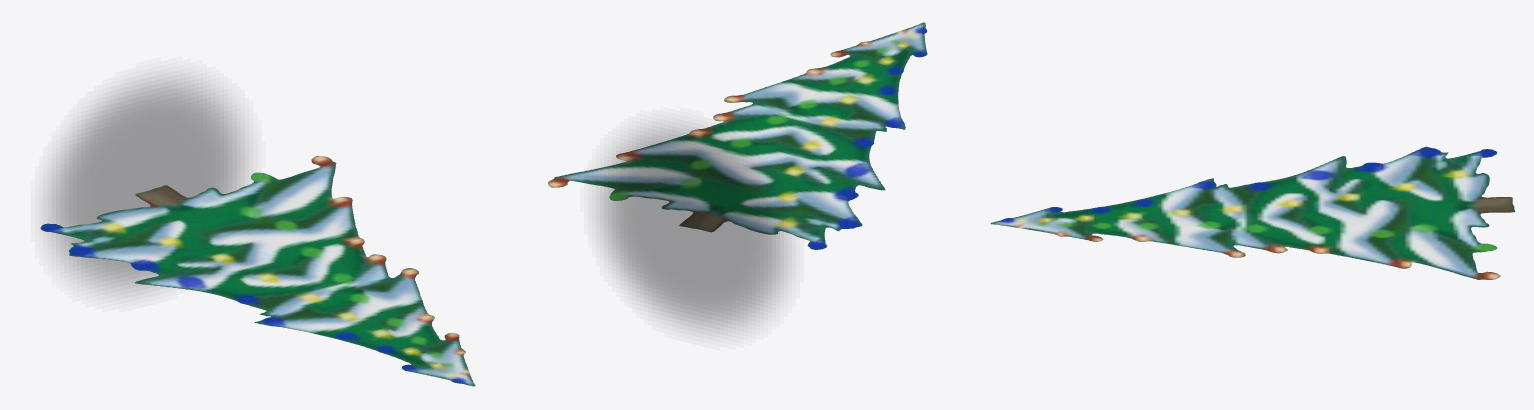
The model's file is prop_snow_tree_small_ul.glb.
3 views of the same model, side by side, from view 1: azimuth 30°, elevation 25°; view 2: azimuth 150°, elevation 25°; view 3: azimuth 270°, elevation 25° (orthographic). The views are drawn at different scales.
Parts seen in each view (by area): view 1: p292_6__billboard, shadow_snow_tree_small_nobox_ul; view 2: p292_6__billboard, shadow_snow_tree_small_nobox_ul; view 3: p292_6__billboard.
Part boxes in pixels (left/top/right/bottom): p292_6__billboard: left=40, top=156, right=475, bottom=386; shadow_snow_tree_small_nobox_ul: left=47, top=76, right=244, bottom=293; p292_6__billboard: left=548, top=22, right=927, bottom=249; shadow_snow_tree_small_nobox_ul: left=600, top=125, right=787, bottom=332; p292_6__billboard: left=990, top=146, right=1515, bottom=279.
Size of the model in its own units: 13.99 by 12.32 by 23.14.
Materials: 2 (2 with a texture image).
